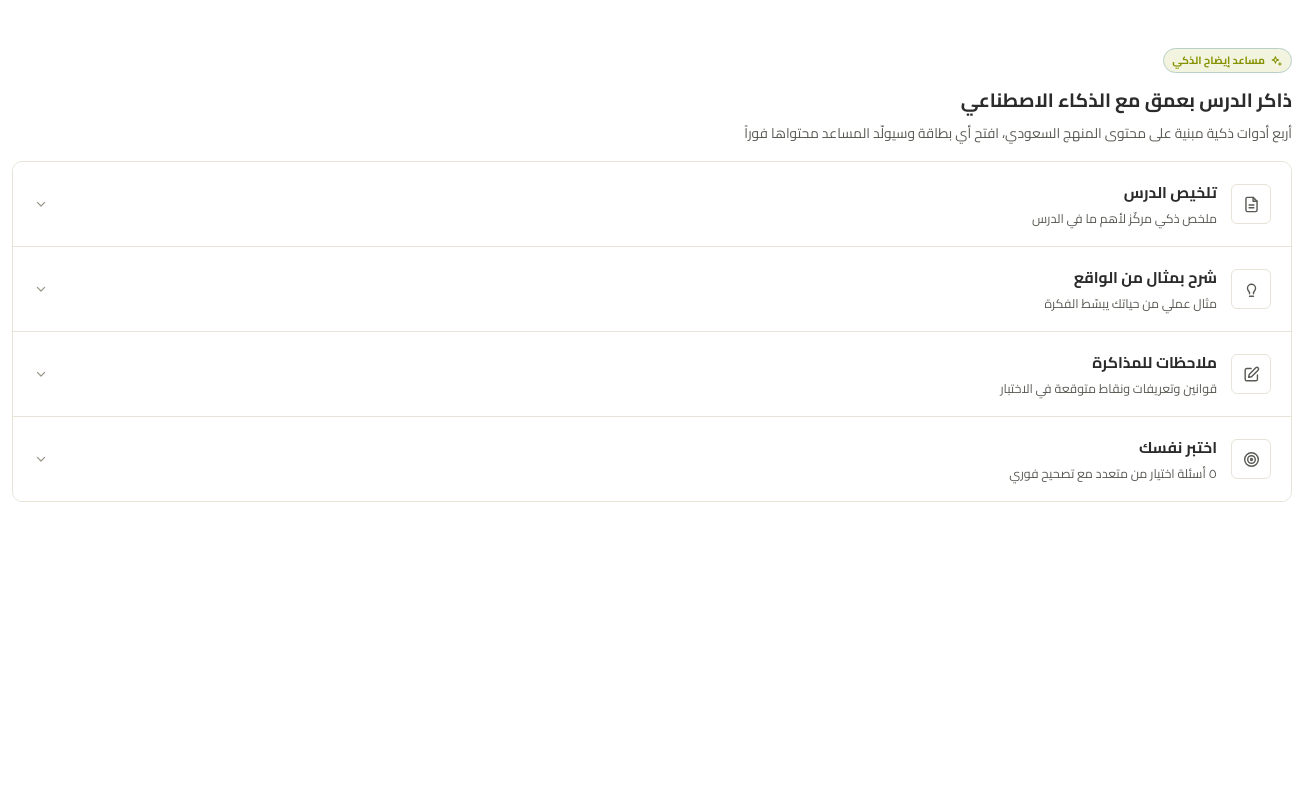
Test: clicking the summary card fetches /api/lesson_tool and renders the points
What coordinates should you click on to do the following:
click the text "تلخيص الدرس"
I would click on:
 (1170, 193)
Its box is [1124,178,1217,207].
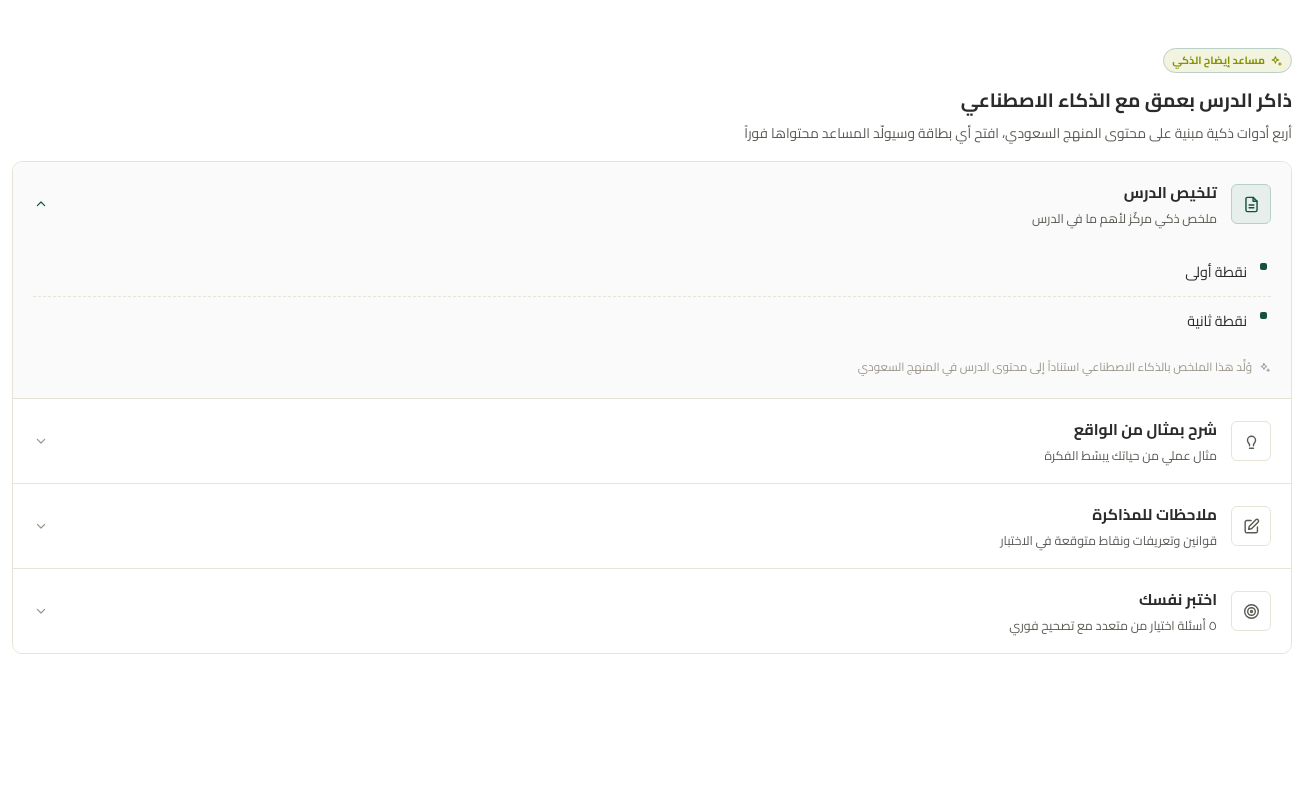
Result: the list item "نقطة أولى" is shown at [33,248,1271,297]
